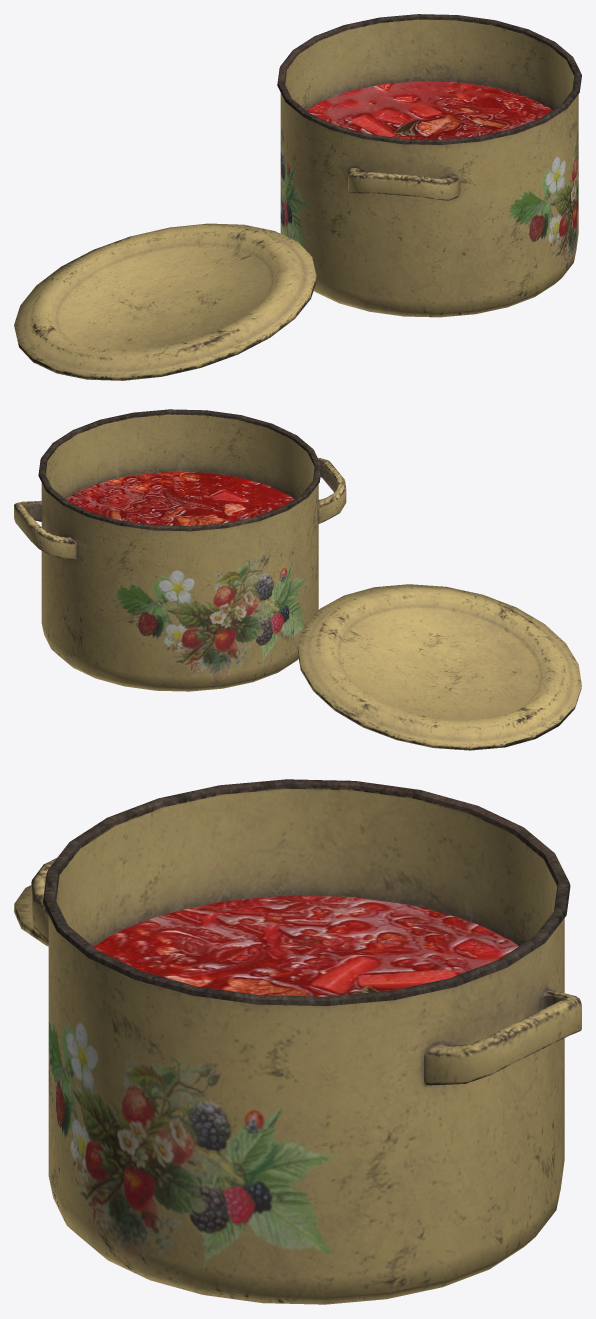
Rendered from pan.glb.
3 renders of one model, top to bottom at view 1: azimuth 30°, elevation 25°; view 2: azimuth 150°, elevation 25°; view 3: azimuth 270°, elevation 25°, orthographic. The views are drawn at different scales.
Parts seen in each view (by area): view 1: low001__0, Line011__0, Circle003; view 2: low001__0, Line011__0, Circle003; view 3: low001__0, Circle003, Line011__0.
Part boxes in pixels (bbox=[...]): low001__0: bbox=[277, 14, 581, 317]; Line011__0: bbox=[14, 223, 317, 380]; Circle003: bbox=[307, 81, 552, 139]; low001__0: bbox=[14, 409, 346, 691]; Line011__0: bbox=[297, 584, 581, 750]; Circle003: bbox=[66, 472, 293, 526]; low001__0: bbox=[31, 779, 581, 1304]; Circle003: bbox=[94, 895, 518, 996]; Line011__0: bbox=[14, 885, 48, 946].
Size of the model in its own units: 0.6203 by 0.2039 by 0.3294.
1 material, 1 textured.
